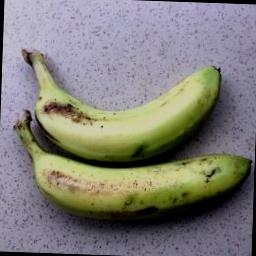Banana Ripe: (10, 36, 256, 226), (12, 110, 252, 224), (18, 44, 232, 166)
